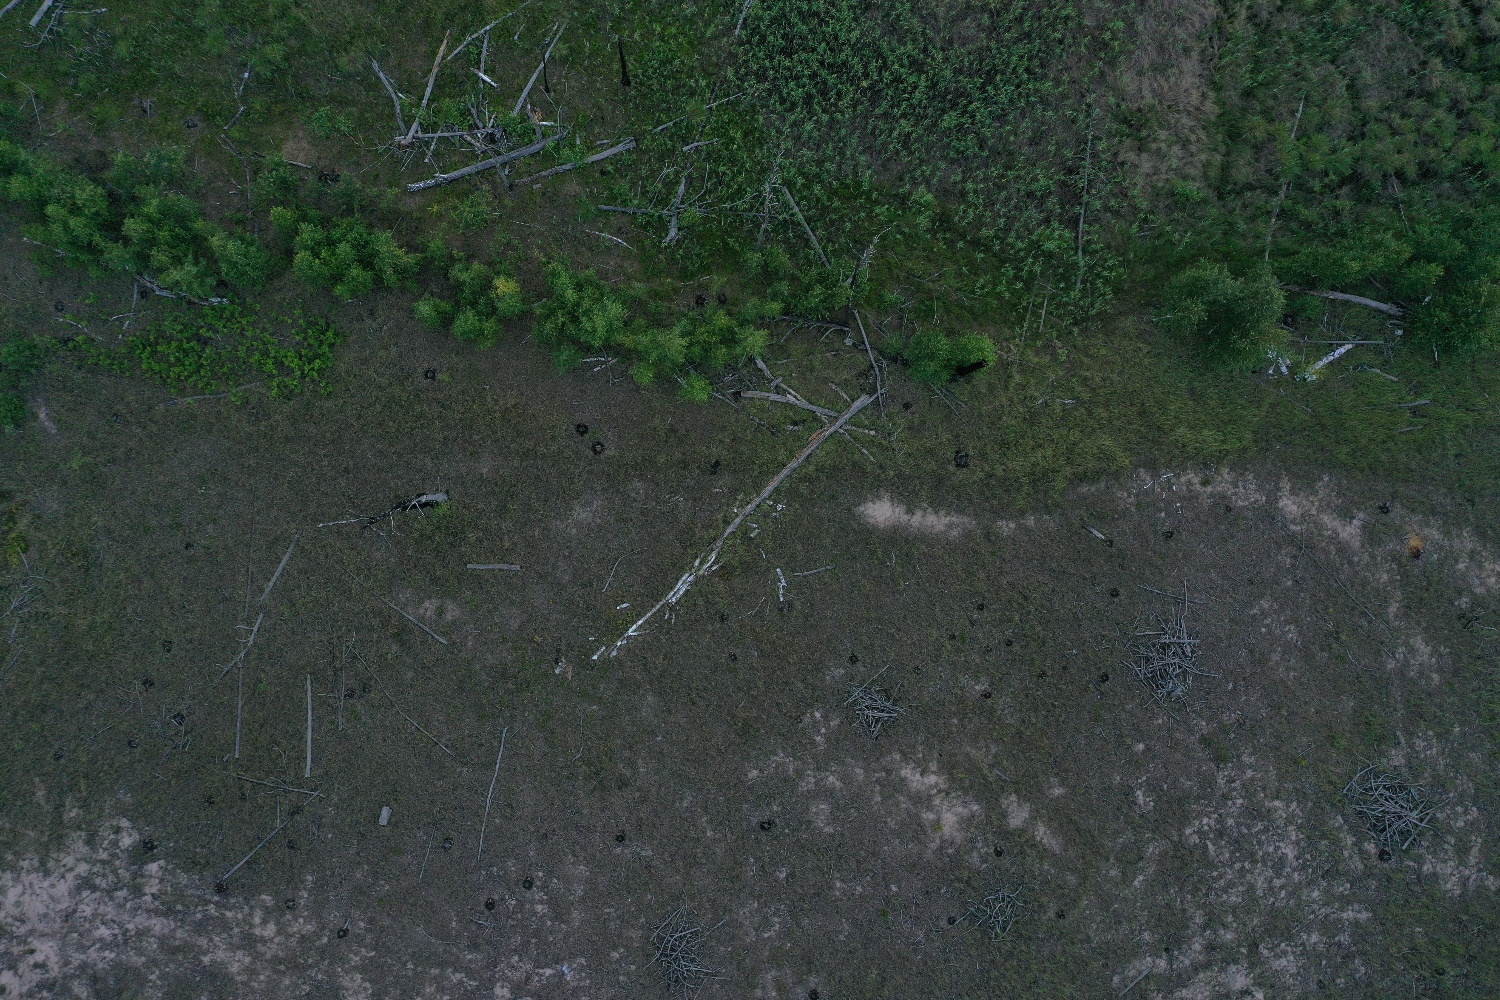branches: (1337, 765, 1450, 850), (1128, 613, 1220, 717), (647, 888, 729, 999), (842, 664, 911, 741), (962, 874, 1032, 940)
